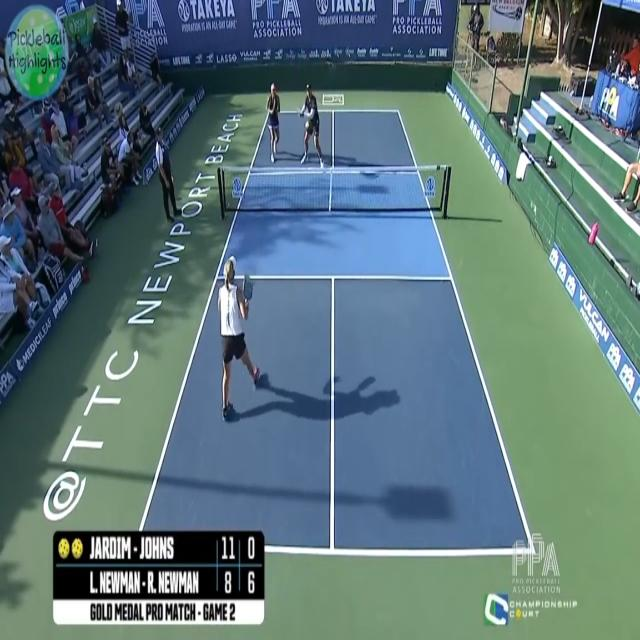Court: (139, 109, 535, 552)
